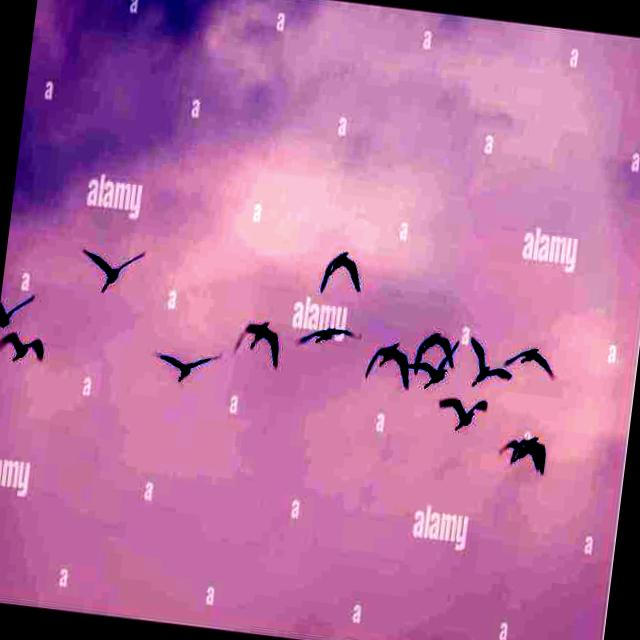bird: (362, 329, 414, 393), (314, 246, 372, 296), (79, 248, 138, 293), (432, 395, 490, 440), (234, 318, 284, 369), (464, 339, 510, 388), (158, 346, 216, 384), (297, 322, 358, 358), (0, 328, 51, 370), (506, 332, 556, 370), (0, 288, 35, 334), (418, 352, 456, 391), (414, 330, 458, 360), (524, 431, 556, 469), (499, 441, 528, 474)
